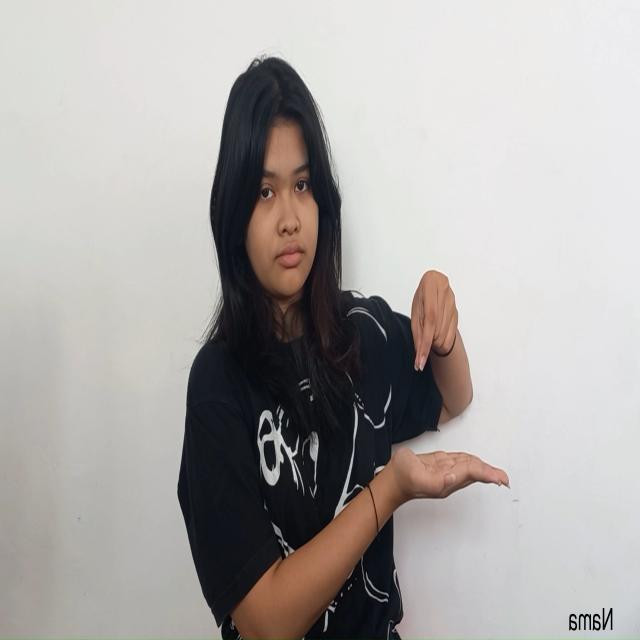Nama -BISINDO-: (392, 270, 511, 508)
